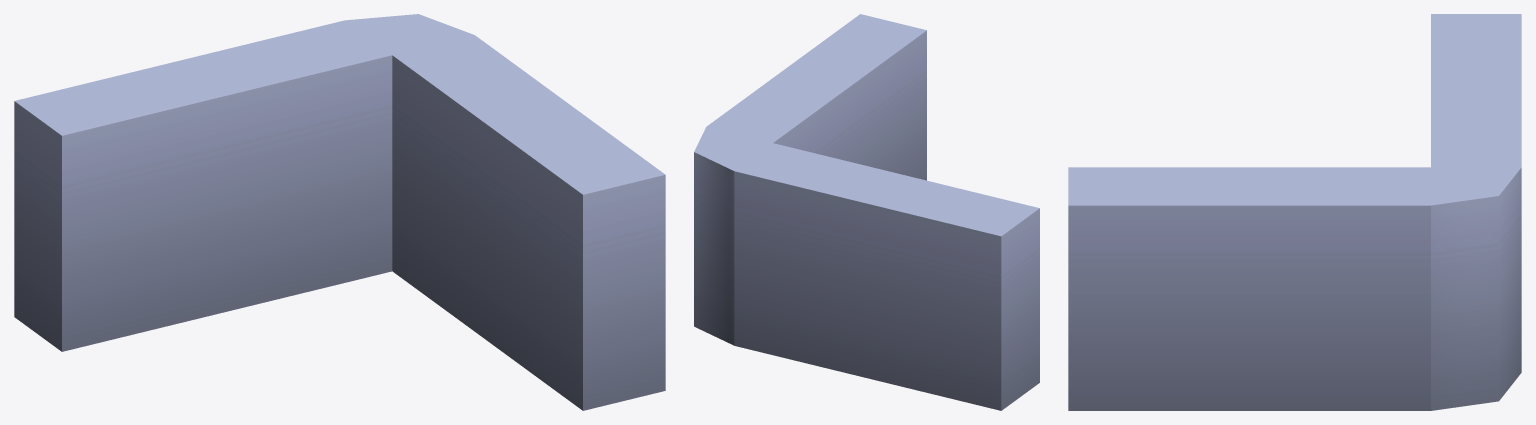
File: kenney-prototype-wall-corner-rounded-low.glb
3 views of the same model, side by side, from view 1: azimuth 30°, elevation 25°; view 2: azimuth 150°, elevation 25°; view 3: azimuth 270°, elevation 25° (orthographic). The views are drawn at different scales.
Parts seen in each view (by area): view 1: wall-corner-rounded-low; view 2: wall-corner-rounded-low; view 3: wall-corner-rounded-low.
Part boxes in pixels (left/top/right/bottom): wall-corner-rounded-low: left=14, top=14, right=665, bottom=410; wall-corner-rounded-low: left=694, top=14, right=1039, bottom=410; wall-corner-rounded-low: left=1068, top=14, right=1521, bottom=410.
Size of the model in its own units: 1 by 0.5001 by 1.
Materials: 1 (1 with a texture image).
